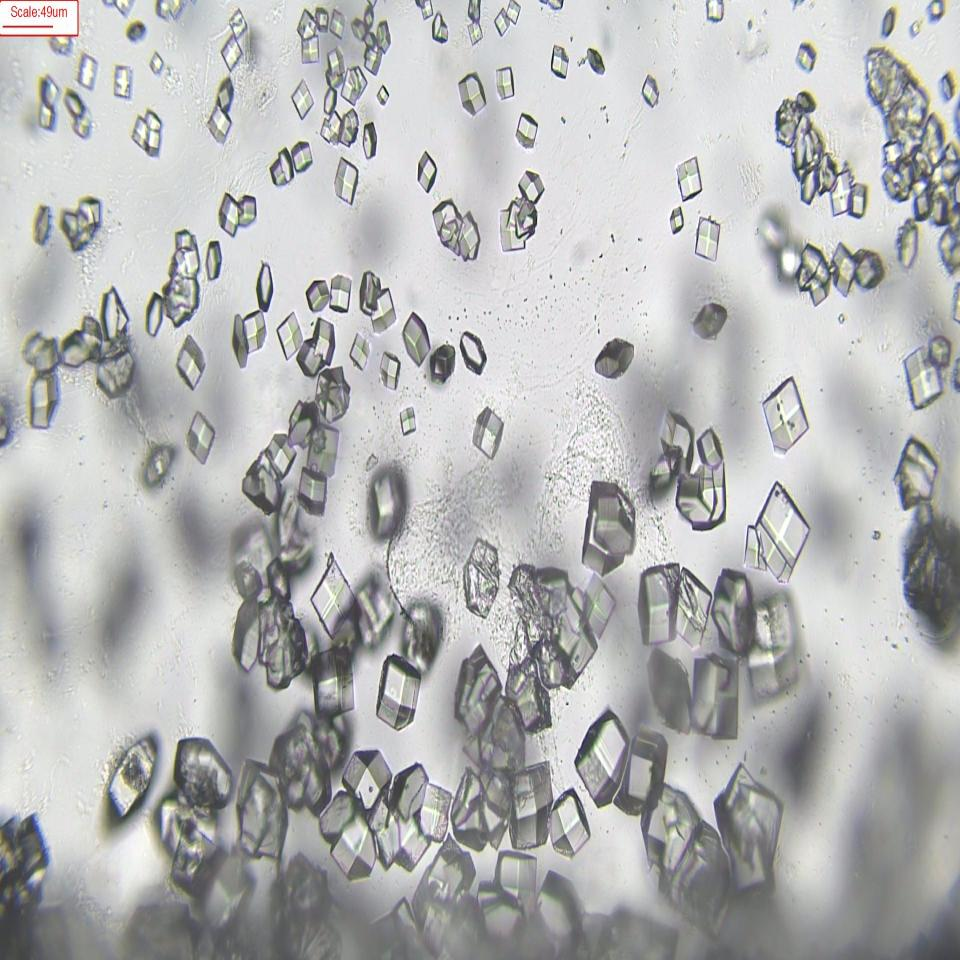crystal: (739, 598, 811, 706), (745, 483, 806, 584), (576, 708, 632, 808), (582, 480, 634, 572), (104, 733, 156, 824), (309, 552, 359, 641), (690, 650, 739, 740), (619, 727, 666, 820), (506, 760, 555, 849), (760, 373, 812, 456), (637, 564, 680, 648), (375, 653, 421, 731), (310, 643, 355, 719), (894, 436, 938, 513), (672, 567, 712, 650), (342, 747, 391, 811), (462, 538, 501, 618), (366, 464, 406, 540), (241, 444, 284, 513), (547, 788, 588, 858), (903, 343, 944, 410), (469, 402, 505, 460), (314, 366, 350, 424), (306, 421, 340, 482), (594, 336, 638, 382), (28, 371, 60, 429), (690, 301, 734, 343), (296, 464, 328, 519), (175, 335, 206, 391), (99, 285, 130, 341), (401, 311, 430, 368), (185, 410, 216, 463), (830, 244, 859, 298), (432, 197, 462, 249), (459, 326, 488, 376), (693, 423, 726, 466), (334, 153, 360, 204), (276, 310, 302, 360), (456, 210, 481, 262), (370, 286, 397, 334), (458, 72, 486, 117), (695, 214, 721, 262), (359, 270, 384, 318), (232, 312, 252, 372), (206, 101, 232, 145), (429, 343, 455, 386), (676, 157, 701, 201), (518, 168, 544, 208), (236, 188, 262, 228), (255, 261, 274, 313), (242, 312, 268, 350), (142, 289, 162, 338), (31, 203, 52, 247), (291, 80, 313, 121), (349, 330, 371, 371), (305, 278, 330, 314), (793, 40, 821, 72), (330, 274, 352, 314), (378, 351, 400, 391), (217, 192, 239, 232), (269, 149, 292, 187), (417, 150, 437, 193), (584, 45, 611, 76), (76, 52, 98, 90), (516, 111, 538, 148), (216, 75, 236, 115), (938, 65, 957, 105), (291, 140, 312, 176), (112, 63, 132, 100), (362, 123, 378, 168), (204, 240, 222, 280), (496, 66, 515, 101), (550, 44, 568, 80), (642, 73, 660, 108), (880, 6, 898, 40), (431, 12, 449, 44), (399, 406, 417, 436), (669, 205, 685, 235), (376, 85, 393, 110), (150, 51, 165, 79)
not_crystal: (864, 50, 954, 208), (456, 646, 506, 842), (417, 848, 502, 932), (239, 757, 290, 864), (777, 103, 827, 188), (163, 227, 201, 326), (59, 193, 104, 250), (797, 237, 829, 305), (63, 86, 92, 140)
